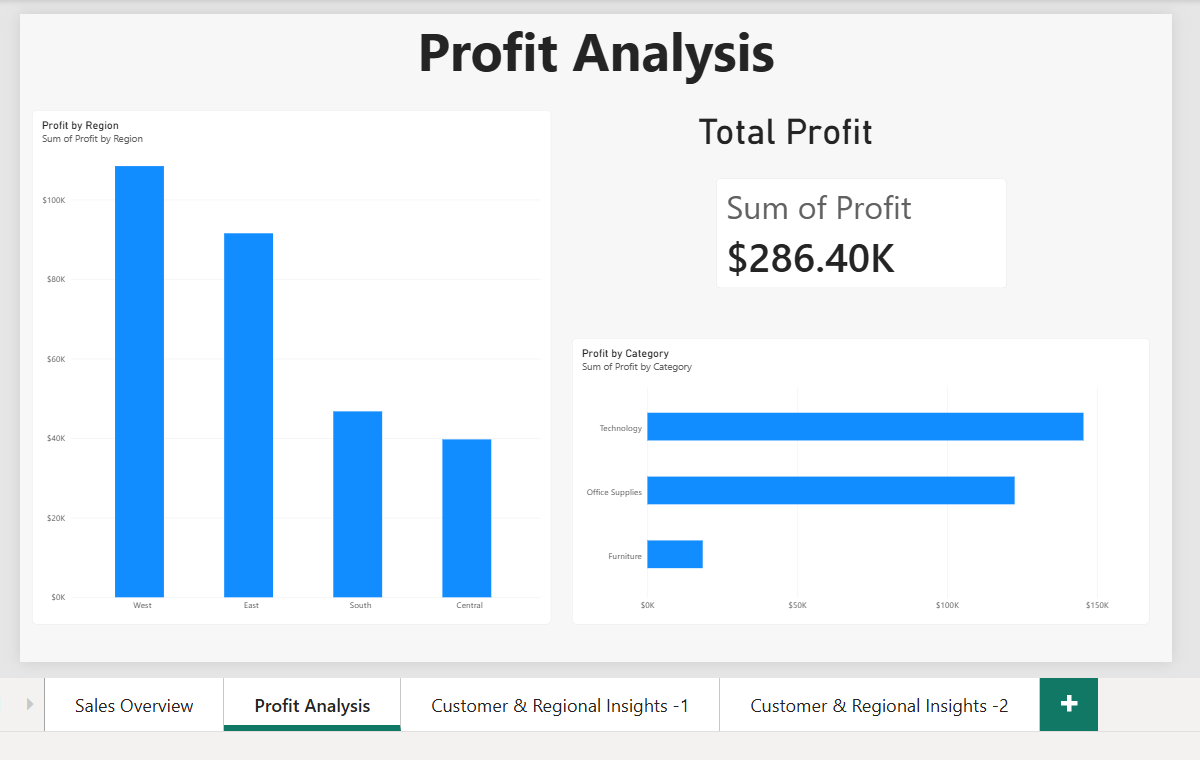

Layout of this report page (visuals, bound fields, positions):
{"tool":"powerbi","page":{"name":"Profit Analysis","canvas":[1920,1080],"ordinal":1},"visuals":[{"type":"textbox","box":[595,0,730,160],"z":0},{"type":"clusteredBarChart","title":"Profit by Category","fields":{"Category":["Sample - Superstore.Category"],"Y":["Sum(Sample - Superstore.Profit)"]},"box":[920,540,962.5,477.5],"z":1000},{"type":"clusteredColumnChart","title":"Profit by Region","fields":{"Category":["Sample - Superstore.Region"],"Y":["Sum(Sample - Superstore.Profit)"]},"box":[20,160,865,857.5],"z":2000},{"type":"cardVisual","title":"Total Profit","fields":{"Data":["Sum(Sample - Superstore.Profit)"]},"box":[1130,160,545,327.5],"z":3000}]}

Visuals, with their boxes on the page's 1920x1080 design canvas (x1, y1, x2, y2). These are canvas units, not pixel positions in the 1200x760 screenshot, which may show the page scaled, cropped or inside an application window:
textbox: rect(595, 0, 1325, 160)
"Profit by Category" clusteredBarChart: rect(920, 540, 1882, 1018)
"Profit by Region" clusteredColumnChart: rect(20, 160, 885, 1018)
"Total Profit" cardVisual: rect(1130, 160, 1675, 488)
